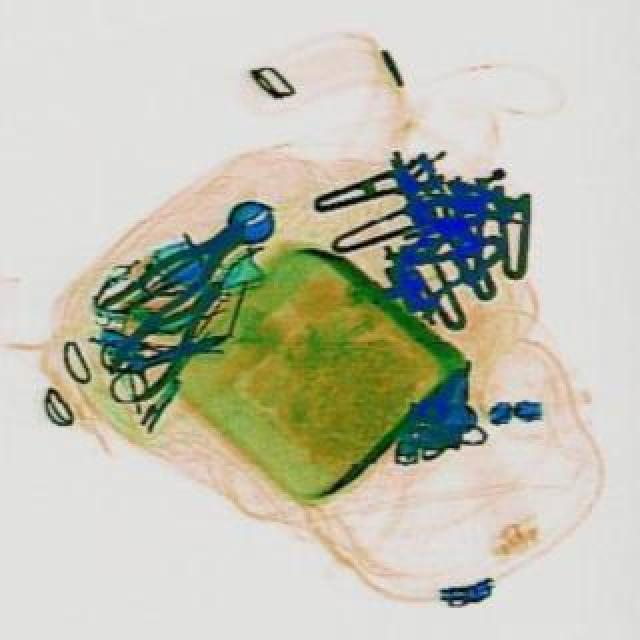pliers: (100, 312, 248, 414)
wrench: (106, 214, 262, 344), (106, 270, 250, 408)
